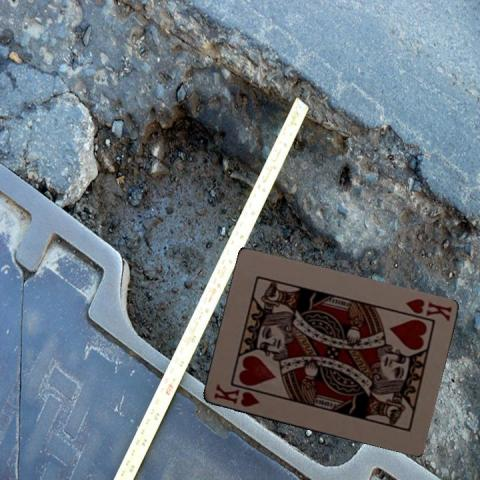Kh: (210, 380, 261, 408), (402, 296, 453, 324)
